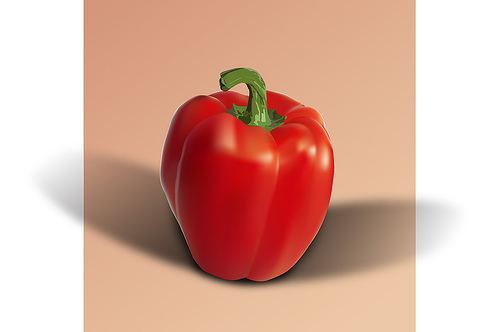capsicum: (160, 67, 337, 285)
